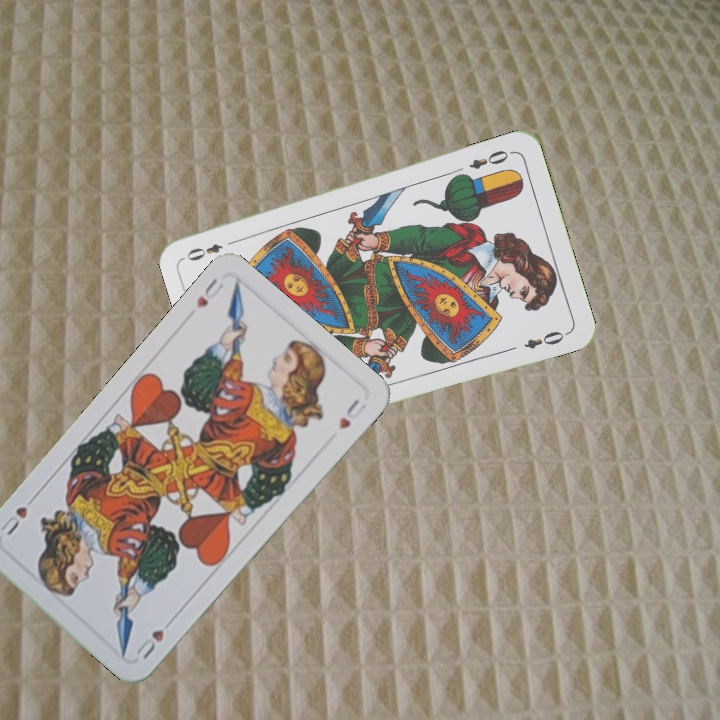EO: (465, 146, 516, 172)
HU: (132, 625, 167, 662), (191, 274, 226, 311)
